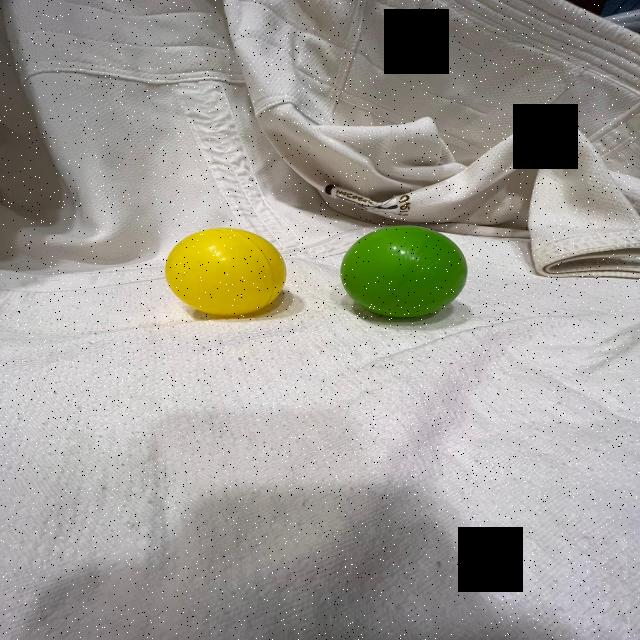ball: (337, 220, 469, 323), (164, 224, 289, 319)
